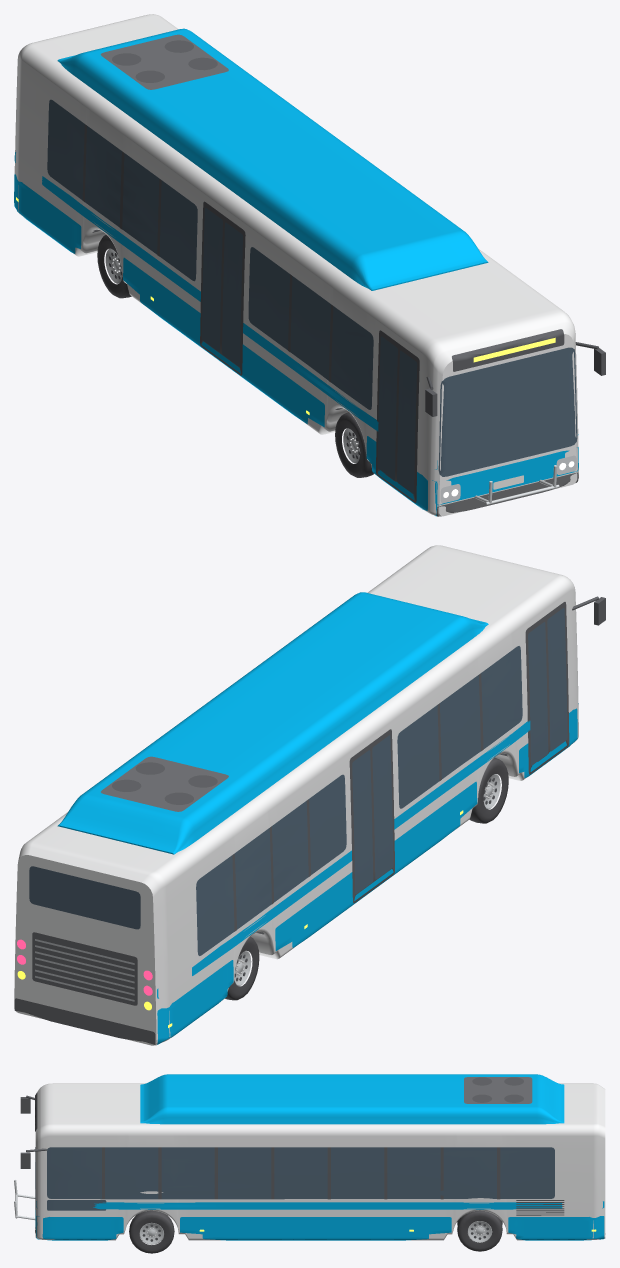
Rendered from bus-city.glb.
The picture shows the model from 3 angles, top to bottom: view 1: azimuth 30°, elevation 25°; view 2: azimuth 150°, elevation 25°; view 3: azimuth 270°, elevation 25°; orthographic projection. The views are drawn at different scales.
Visible parts, largest first — view 1: bus-city; view 2: bus-city; view 3: bus-city.
Part boxes in pixels (box(x1,y1,x2,y2)): bus-city: box(14, 14, 605, 516); bus-city: box(14, 545, 605, 1045); bus-city: box(14, 1074, 605, 1253).
Bounding box in the file's own units: 2.96 × 3.42 × 12.99.
